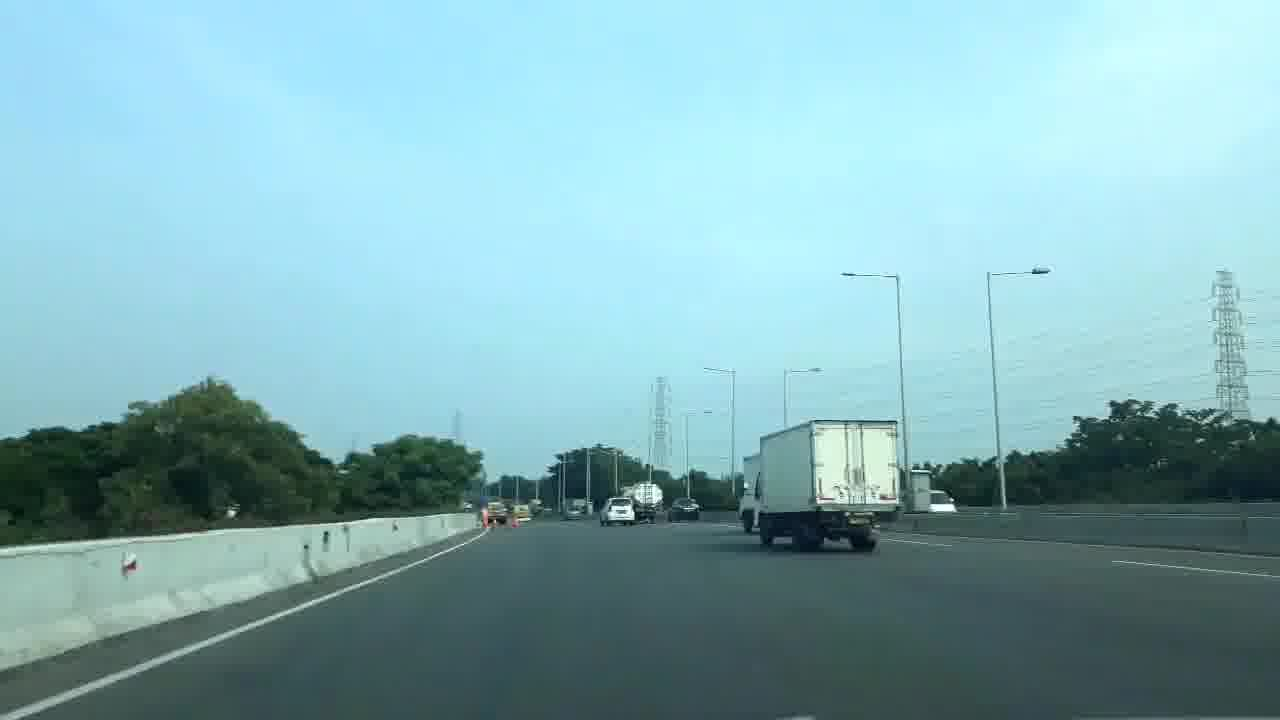plate_positive: (847, 516, 873, 525)
